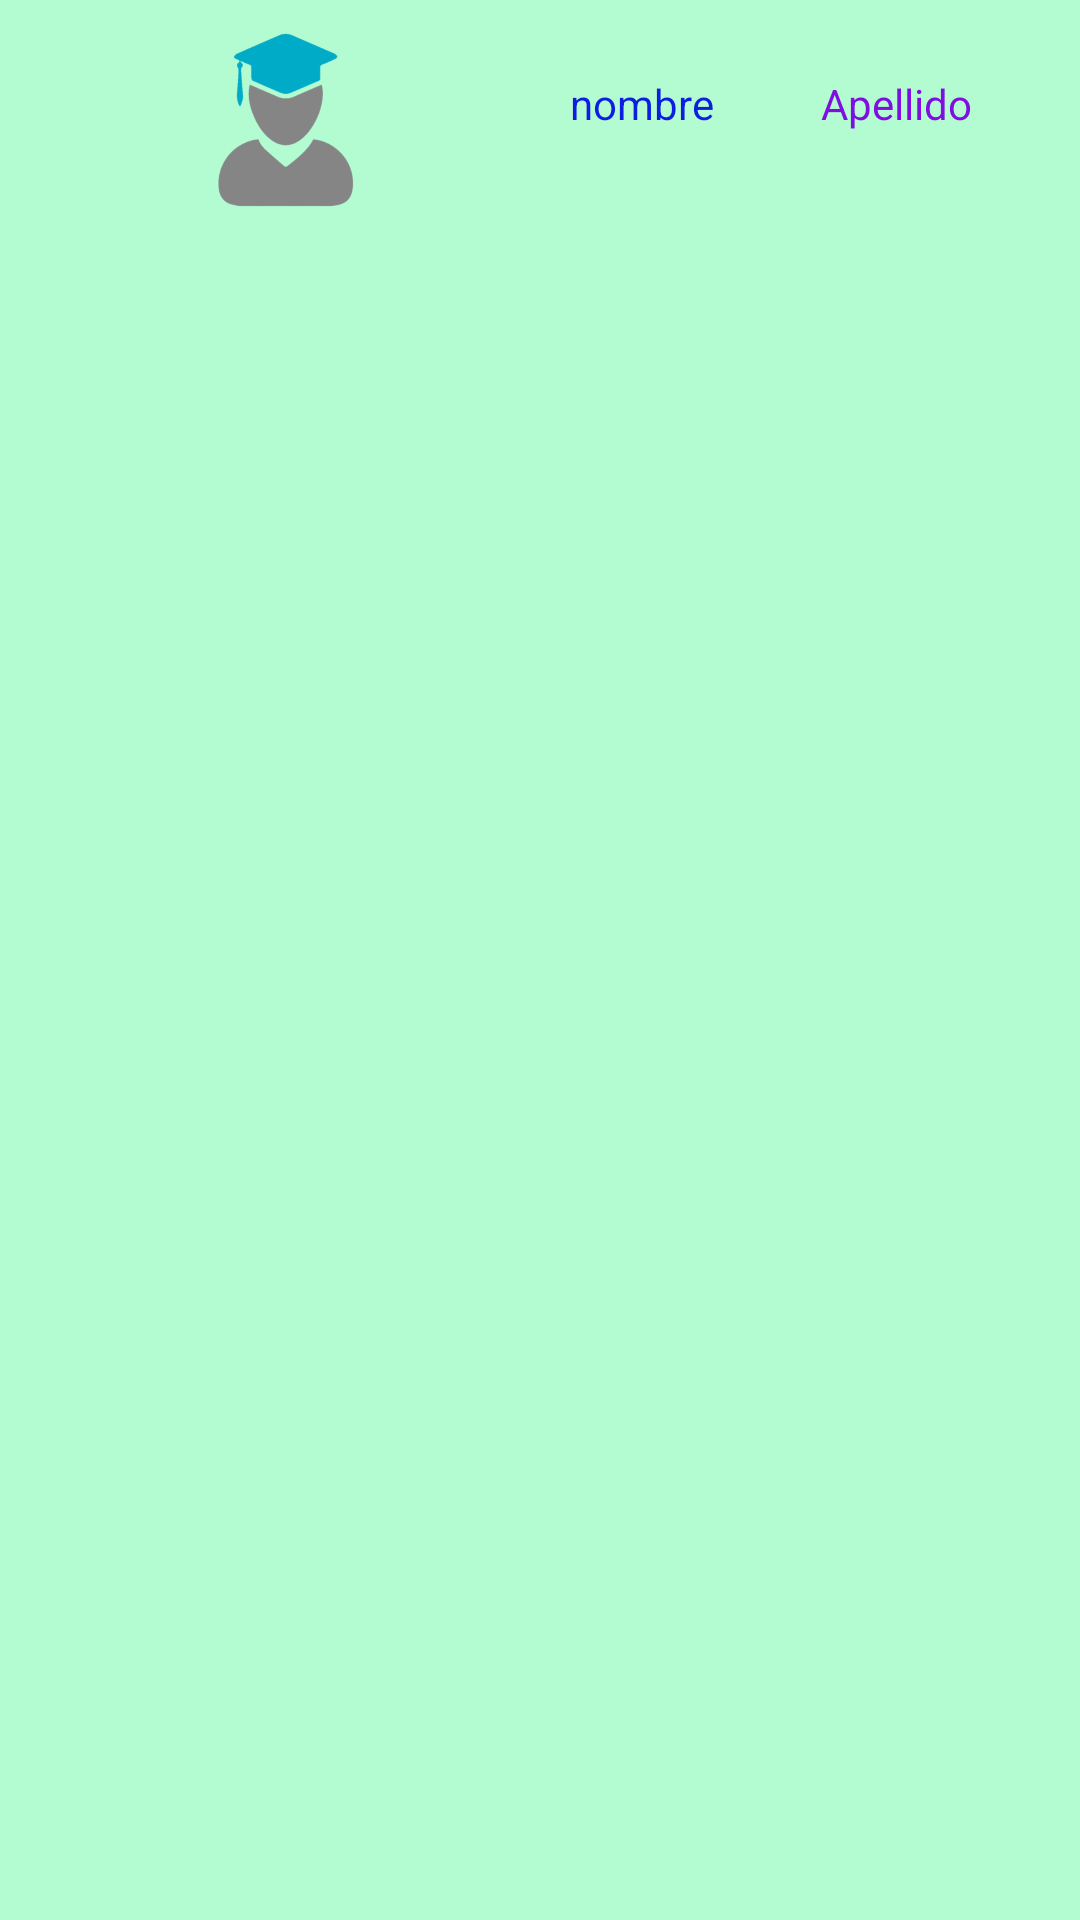

Where to tap for icons on this 1080 × 1920 app screen, as (x=x, y=y):
alumno: (x=285, y=119)
